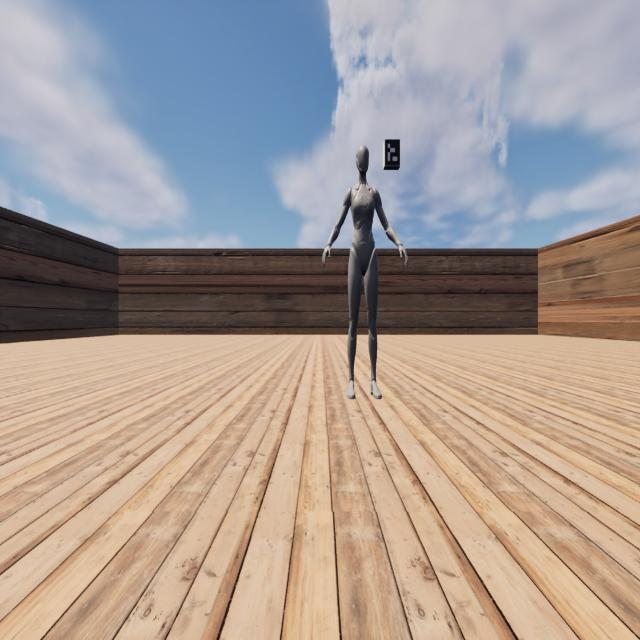aruco: (385, 139, 400, 165)
hip: (349, 248, 377, 258)
